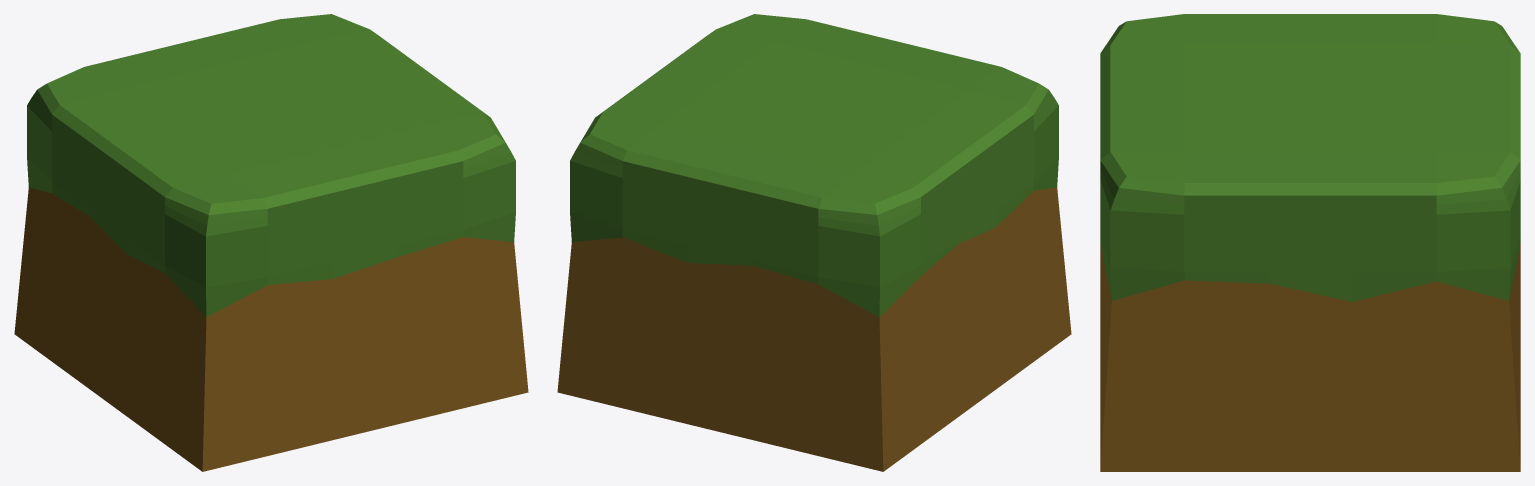
Rendered from GrassTilePlaceHolder.fbx.
3 renders of one model, left to right at view 1: azimuth 30°, elevation 25°; view 2: azimuth 150°, elevation 25°; view 3: azimuth 270°, elevation 25°, orthographic. The views are drawn at different scales.
Visible parts, largest first — view 1: Cube; view 2: Cube; view 3: Cube.
Boxes of the visible parts, x1,y1,x2,y2 form: Cube: (14, 14, 528, 471); Cube: (557, 14, 1071, 471); Cube: (1100, 14, 1520, 471).
Bounding box in the file's own units: 400 × 300 × 400.
